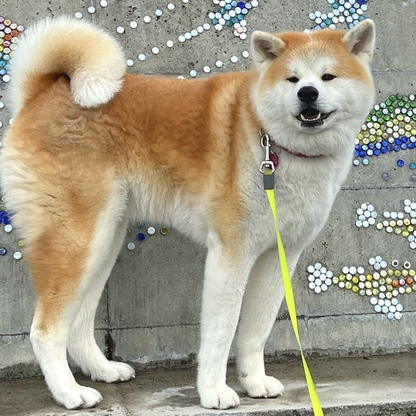akita: (1, 10, 379, 416)
